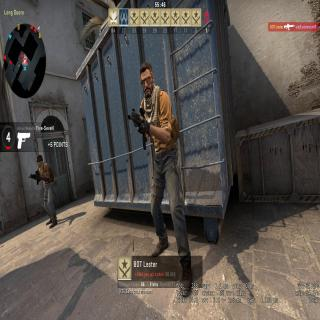T-Body: (134, 61, 196, 292), (35, 152, 53, 220)
T-Head: (140, 64, 153, 93), (38, 154, 42, 165)
